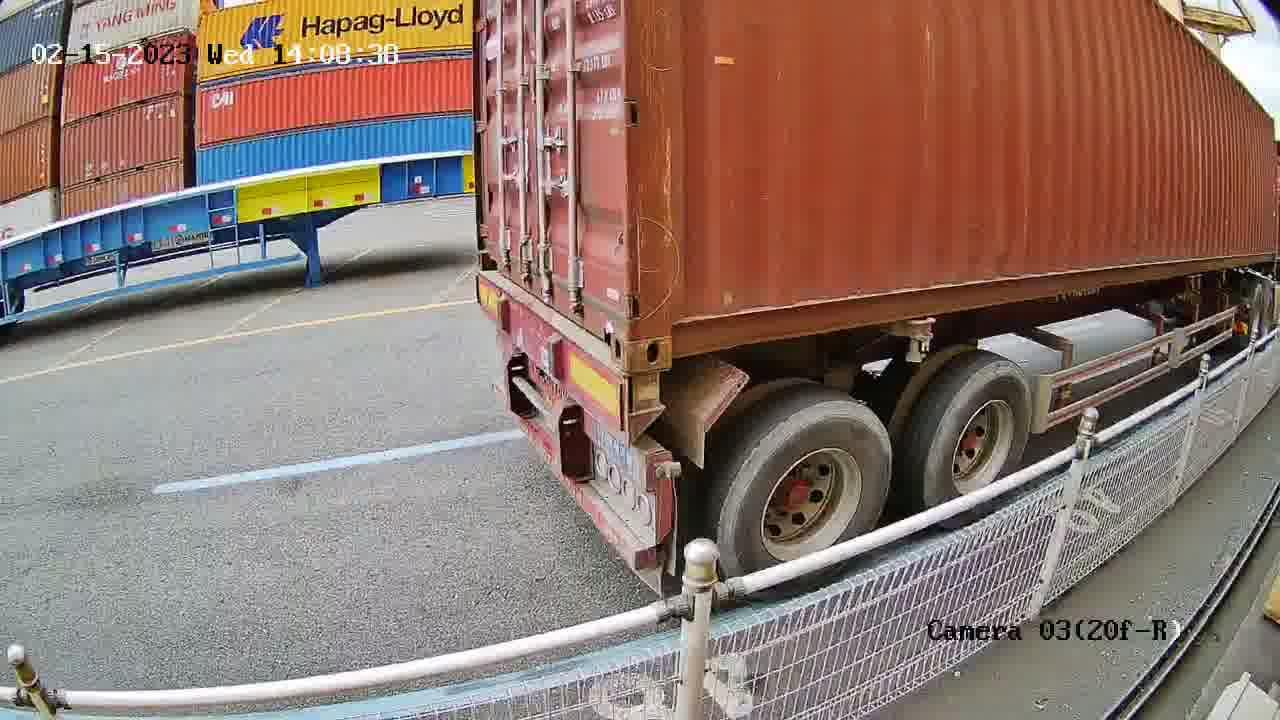Chassis: (478, 280, 623, 439)
Cone: (624, 374, 663, 421)
Hole_L: (627, 284, 716, 368)
Hole_R: (582, 279, 630, 369)
Tire: (717, 406, 892, 576), (927, 366, 1031, 503)
